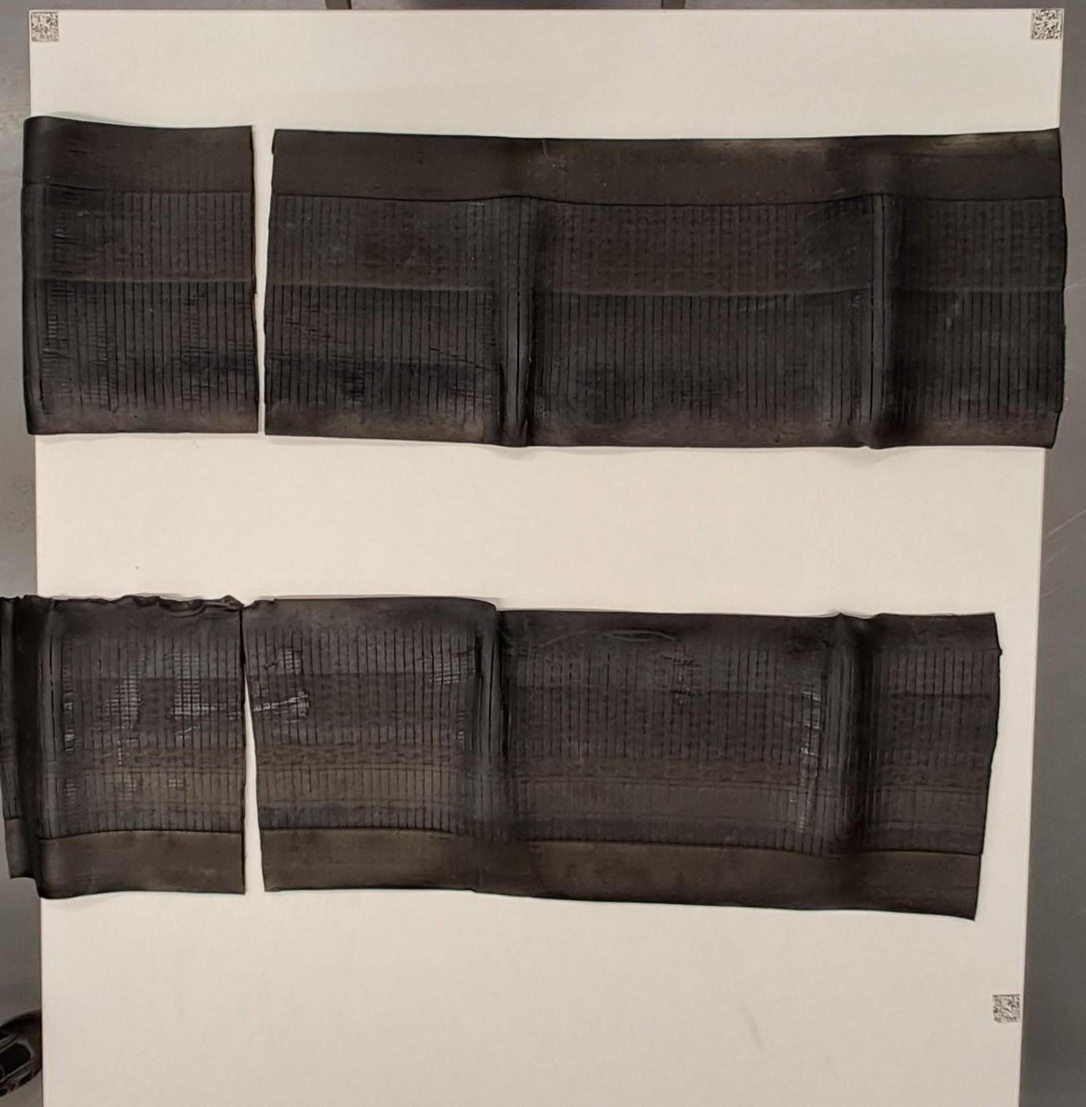cut_edge: (252, 126, 275, 433), (241, 612, 265, 893)
